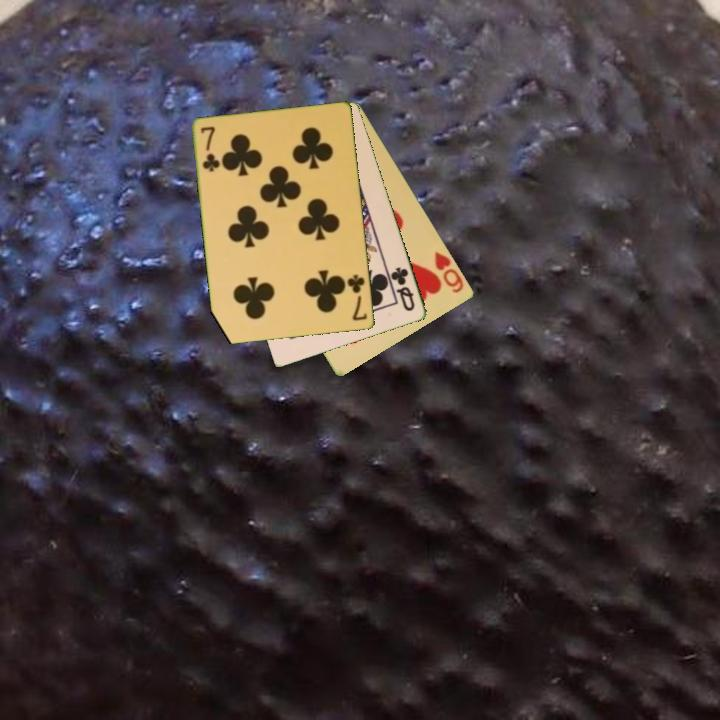6h: (431, 248, 467, 296)
7c: (344, 271, 370, 324), (197, 123, 222, 175)
Qc: (387, 263, 418, 315)
